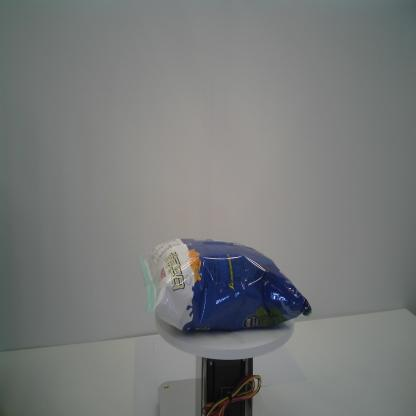Puffed Food: (138, 237, 312, 332)
